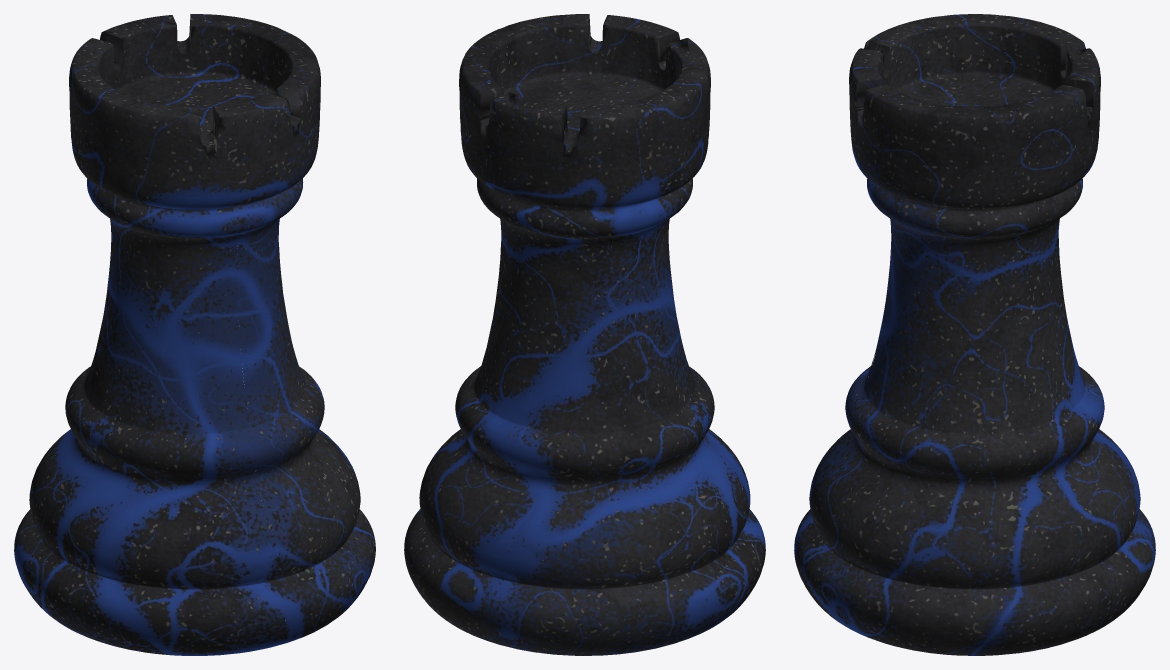
File: rook-black-hd.glb
3 views of the same model, side by side, from view 1: azimuth 30°, elevation 25°; view 2: azimuth 150°, elevation 25°; view 3: azimuth 270°, elevation 25° (orthographic).
Parts seen in each view (by area): view 1: Cobalt Vein black rook; view 2: Cobalt Vein black rook; view 3: Cobalt Vein black rook.
Part boxes in pixels (x1=…): Cobalt Vein black rook: x1=14, y1=14, x2=375, y2=655; Cobalt Vein black rook: x1=404, y1=14, x2=765, y2=655; Cobalt Vein black rook: x1=794, y1=14, x2=1155, y2=655.
Bounding box in the file's own units: 0.5961 × 0.96 × 0.5963.
1 material, 1 textured.
